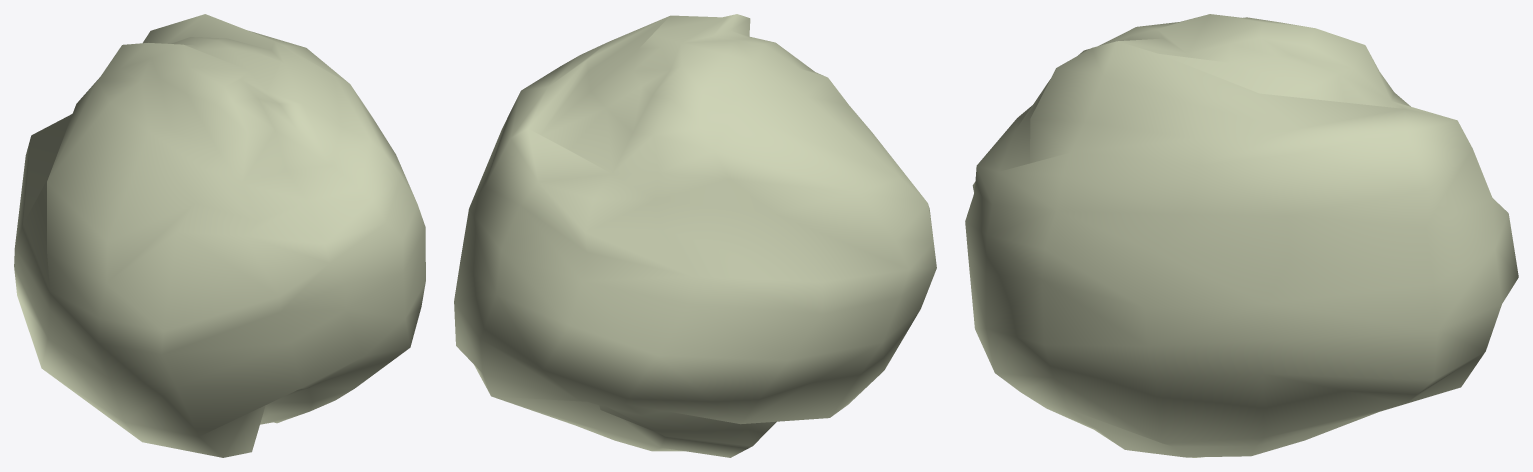
File: sAsteroid3_coll.obj
3 renders of one model, left to right at view 1: azimuth 30°, elevation 25°; view 2: azimuth 150°, elevation 25°; view 3: azimuth 270°, elevation 25°, orthographic. The views are drawn at different scales.
Visible parts, largest first — view 1: sphere1; view 2: sphere1; view 3: sphere1.
Boxes of the visible parts, x1=… form: sphere1: x1=14, y1=14, x2=425, y2=457; sphere1: x1=454, y1=14, x2=936, y2=457; sphere1: x1=965, y1=14, x2=1518, y2=457.
Bounding box in the file's own units: 2.42 × 2.38 × 2.85.
